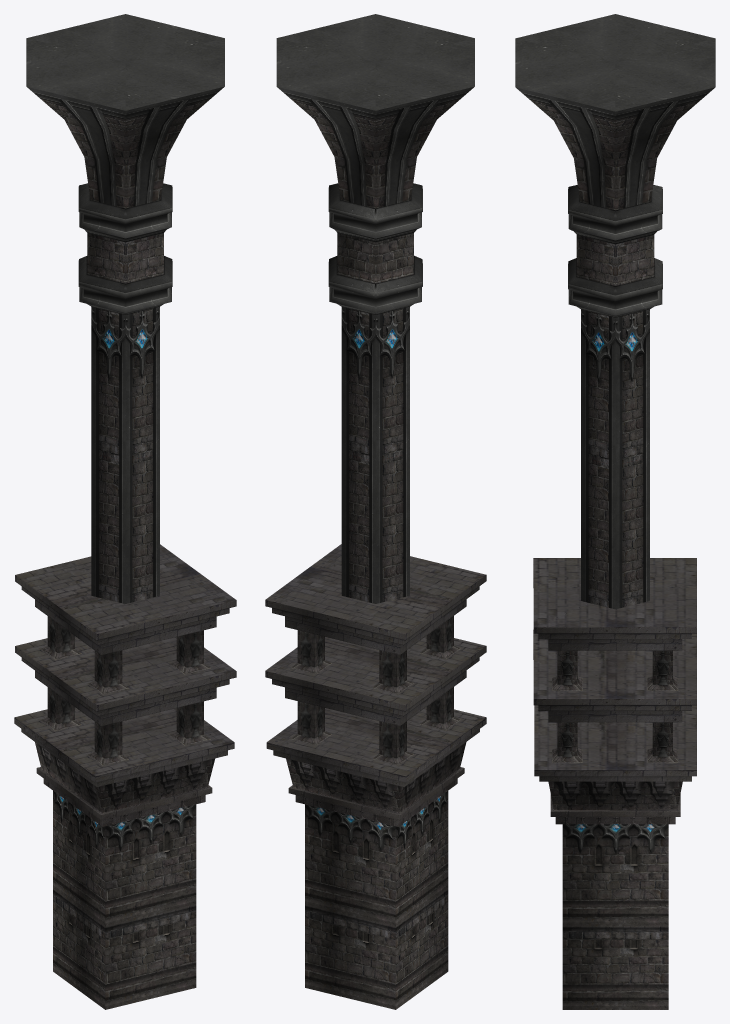
Rendered from x25zhuzi.FBX.
3 views of the same model, side by side, from view 1: azimuth 30°, elevation 25°; view 2: azimuth 150°, elevation 25°; view 3: azimuth 270°, elevation 25° (orthographic).
Visible parts, largest first — view 1: x25zhuzi; view 2: x25zhuzi; view 3: x25zhuzi.
Part boxes in pixels (x1,y1,x2,y2): x25zhuzi: [14, 14, 236, 1009]; x25zhuzi: [265, 14, 486, 1009]; x25zhuzi: [515, 14, 715, 1009].
Bounding box in the file's own units: 1819 × 8031 × 1576.
